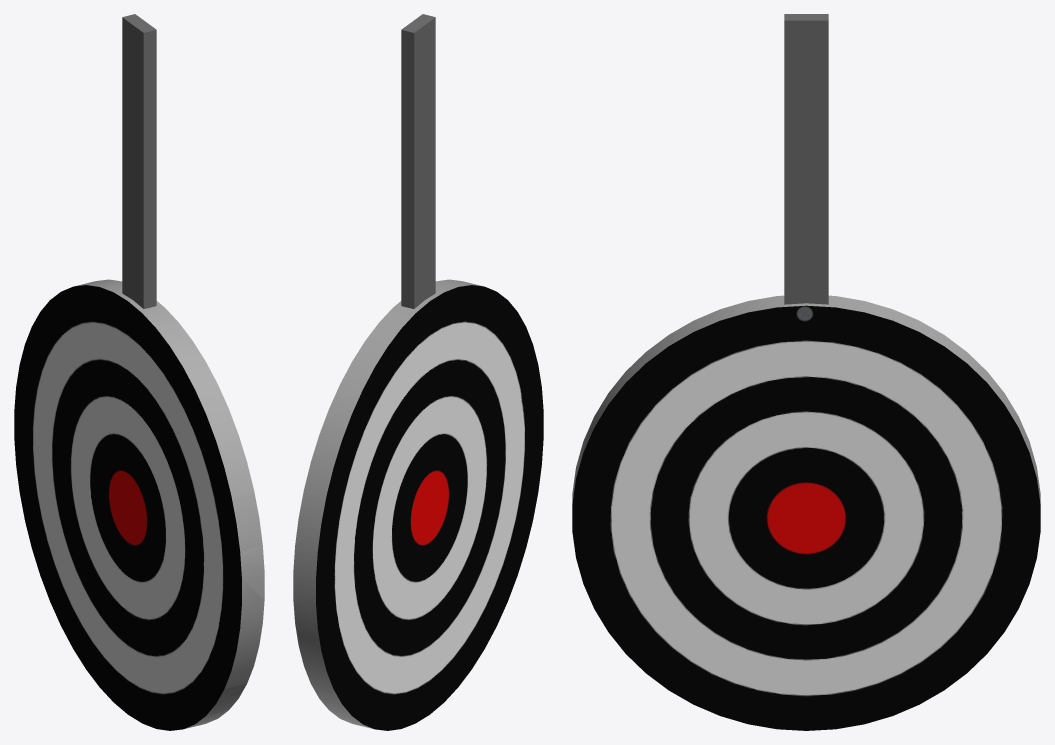
Rendered from target_destroy2.glb.
3 views of the same model, side by side, from view 1: azimuth 30°, elevation 25°; view 2: azimuth 150°, elevation 25°; view 3: azimuth 270°, elevation 25° (orthographic). The views are drawn at different scales.
Parts seen in each view (by area): view 1: pCube3, defaultMaterial_cell.005, defaultMaterial_cell.007, defaultMaterial_cell.015, defaultMaterial_cell.019, defaultMaterial_cell.002, defaultMaterial_cell.016, defaultMaterial_cell.010, defaultMaterial_cell.012, defaultMaterial_cell.017, defaultMaterial_cell.014, defaultMaterial_cell.009 (+9 smaller); view 2: pCube3, defaultMaterial_cell.011, defaultMaterial_cell.005, defaultMaterial_cell.006, defaultMaterial_cell.002, defaultMaterial_cell.010, defaultMaterial_cell.019, defaultMaterial_cell.007, defaultMaterial_cell.008, defaultMaterial_cell.009, defaultMaterial_cell, defaultMaterial_cell.017 (+8 smaller); view 3: pCube3, defaultMaterial_cell.002, defaultMaterial_cell.019, defaultMaterial_cell.006, defaultMaterial_cell.005, defaultMaterial_cell.007, defaultMaterial_cell.012, defaultMaterial_cell.008, defaultMaterial_cell.003, defaultMaterial_cell.015, defaultMaterial_cell.016, defaultMaterial_cell.011 (+7 smaller).
Boxes of the visible parts, x1,y1,x2,y2 form: pCube3: [14, 14, 248, 728]; defaultMaterial_cell.005: [68, 279, 217, 399]; defaultMaterial_cell.007: [77, 379, 246, 493]; defaultMaterial_cell.015: [20, 286, 170, 413]; defaultMaterial_cell.019: [109, 601, 246, 730]; defaultMaterial_cell.002: [24, 499, 165, 655]; defaultMaterial_cell.016: [169, 536, 263, 688]; defaultMaterial_cell.010: [39, 536, 112, 698]; defaultMaterial_cell.012: [44, 382, 138, 528]; defaultMaterial_cell.017: [14, 391, 82, 562]; defaultMaterial_cell.014: [83, 532, 176, 638]; defaultMaterial_cell.009: [187, 546, 264, 715]; pCube3: [293, 14, 543, 730]; defaultMaterial_cell.011: [448, 286, 525, 482]; defaultMaterial_cell.005: [352, 279, 500, 441]; defaultMaterial_cell.006: [298, 379, 383, 660]; defaultMaterial_cell.002: [325, 577, 467, 727]; defaultMaterial_cell.010: [329, 605, 412, 729]; defaultMaterial_cell.019: [410, 533, 522, 714]; defaultMaterial_cell.007: [379, 296, 533, 498]; defaultMaterial_cell.008: [410, 459, 505, 599]; defaultMaterial_cell.009: [481, 380, 541, 600]; defaultMaterial_cell: [411, 347, 539, 495]; defaultMaterial_cell.017: [295, 542, 380, 696]; pCube3: [572, 14, 1040, 730]; defaultMaterial_cell.002: [788, 571, 1021, 695]; defaultMaterial_cell.019: [610, 582, 844, 730]; defaultMaterial_cell.006: [902, 340, 1040, 599]; defaultMaterial_cell.005: [659, 295, 931, 415]; defaultMaterial_cell.007: [603, 343, 903, 476]; defaultMaterial_cell.012: [776, 382, 979, 567]; defaultMaterial_cell.008: [665, 529, 841, 637]; defaultMaterial_cell.003: [751, 471, 981, 571]; defaultMaterial_cell.015: [759, 296, 1016, 485]; defaultMaterial_cell.016: [573, 535, 715, 628]; defaultMaterial_cell.011: [604, 300, 774, 533].
Size of the model in its own units: 0.0555 by 1.61 by 0.9621.
Materials: 1 (1 with a texture image).
